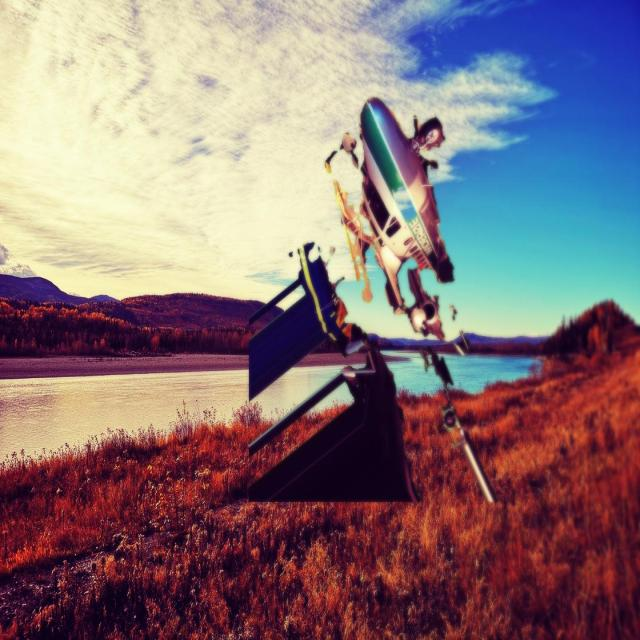airplane: (247, 95, 496, 501)
